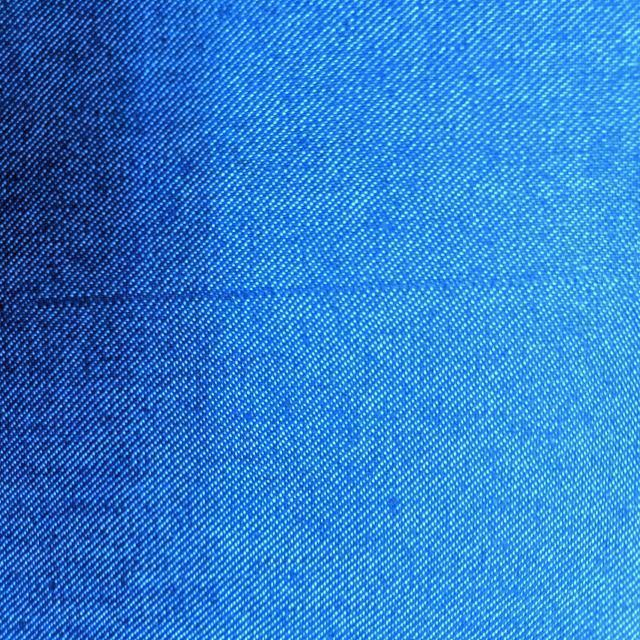Line: (38, 268, 538, 315)
